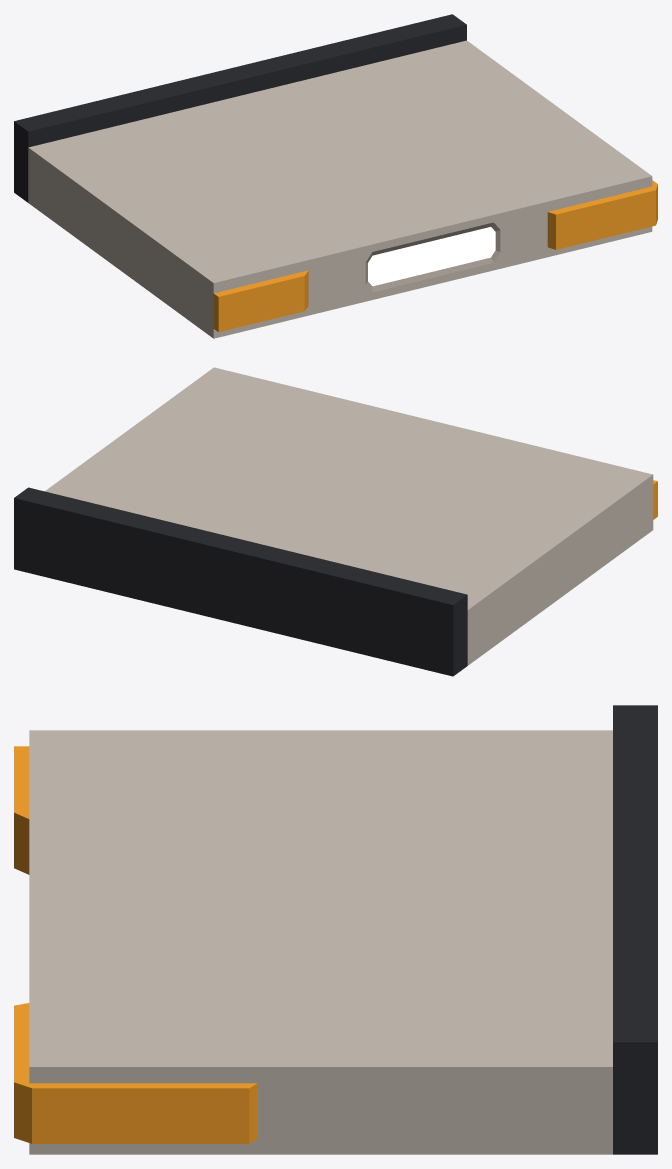
Rendered from SM_Handing_Table_Top_Kinchen_A.glb.
The picture shows the model from 3 angles, top to bottom: view 1: azimuth 30°, elevation 25°; view 2: azimuth 150°, elevation 25°; view 3: azimuth 270°, elevation 25°; orthographic projection. The views are drawn at different scales.
Parts seen in each view (by area): view 1: SM_Handing_Table_Top_Kinchen_A; view 2: SM_Handing_Table_Top_Kinchen_A; view 3: SM_Handing_Table_Top_Kinchen_A.
Part boxes in pixels (x1,y1,x2,y2): SM_Handing_Table_Top_Kinchen_A: (14,14,657,338); SM_Handing_Table_Top_Kinchen_A: (14,367,657,676); SM_Handing_Table_Top_Kinchen_A: (14,705,657,1154).
Bounding box in the file's own units: 0.8 × 0.1226 × 0.6367.
Materials: 2 (1 with a texture image).
